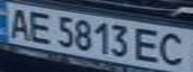1: (90, 20, 112, 55)
3: (109, 21, 133, 60)
5: (51, 14, 78, 50)
8: (72, 17, 93, 52)
A: (3, 6, 33, 39)
C: (154, 29, 193, 68)
E: (133, 26, 166, 64), (24, 9, 57, 44)
